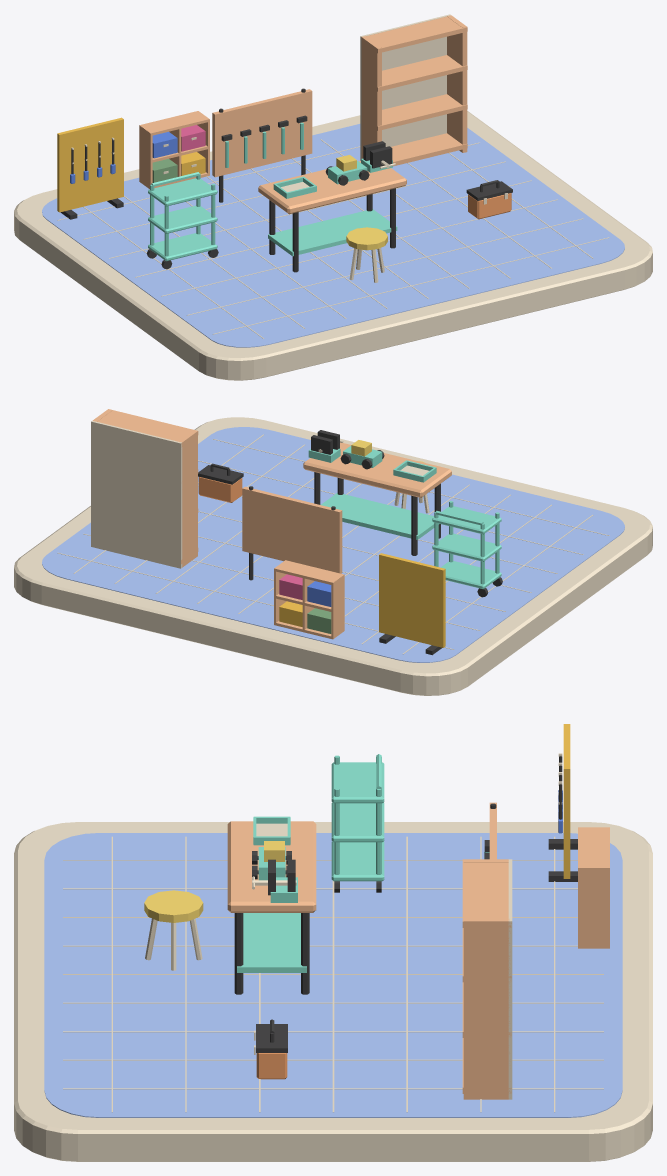
The model's file is room.fbx.
3 views of the same model, one above another, from view 1: azimuth 30°, elevation 25°; view 2: azimuth 150°, elevation 25°; view 3: azimuth 270°, elevation 25° (orthographic). The views are drawn at different scales.
Visible parts, largest first — view 1: COM-02 Floor Surface, COM-01 Rounded Base Direct, Peg board, Panel, Back, Worktop, Lower shelf, Side, Side.001, Shelf.003, Shelf.001, Shelf.002 (+12 smaller); view 2: COM-02 Floor Surface, COM-01 Rounded Base Direct, Back, Peg board, Panel, Worktop, Lower shelf, Side, Shelf.003, Tray.001, Tray.002, Tray (+8 smaller); view 3: COM-02 Floor Surface, COM-01 Rounded Base Direct, Side.001, Worktop, Lower shelf, Shelf.003, Cubbies divider.002, Tray.002, Tray, Tray.001, Seat, Cubbies shelf.002 (+13 smaller).
Part boxes in pixels (<box>): COM-02 Floor Surface: <box>42,124,624,347</box>; COM-01 Rounded Base Direct: <box>14,111,652,380</box>; Peg board: <box>212,89,312,177</box>; Panel: <box>57,117,123,212</box>; Back: <box>360,14,450,160</box>; Worktop: <box>258,161,406,214</box>; Lower shelf: <box>268,209,397,256</box>; Side: <box>361,36,381,154</box>; Side.001: <box>447,15,467,152</box>; Shelf.003: <box>361,16,467,53</box>; Shelf.001: <box>361,94,467,130</box>; Shelf.002: <box>361,55,467,91</box>; COM-02 Floor Surface: <box>42,427,624,662</box>; COM-01 Rounded Base Direct: <box>14,417,652,695</box>; Back: <box>91,420,182,568</box>; Peg board: <box>242,486,342,573</box>; Panel: <box>379,553,445,647</box>; Worktop: <box>303,442,451,497</box>; Lower shelf: <box>321,493,439,539</box>; Side: <box>177,430,197,567</box>; Shelf.003: <box>97,409,198,447</box>; Tray.001: <box>432,533,501,561</box>; Tray.002: <box>432,506,501,534</box>; Tray: <box>441,561,501,589</box>; COM-02 Floor Surface: <box>44,833,622,1117</box>; COM-01 Rounded Base Direct: <box>14,822,652,1161</box>; Side.001: <box>463,918,510,1099</box>; Worktop: <box>227,821,316,912</box>; Lower shelf: <box>237,913,306,972</box>; Shelf.003: <box>462,859,511,927</box>; Cubbies divider.002: <box>578,868,609,948</box>; Tray.002: <box>331,762,384,803</box>; Tray: <box>331,841,384,881</box>; Tray.001: <box>331,802,384,842</box>; Seat: <box>144,890,203,922</box>; Cubbies shelf.002: <box>578,827,609,868</box>.
Size of the model in its own units: 600 by 190 by 520.
